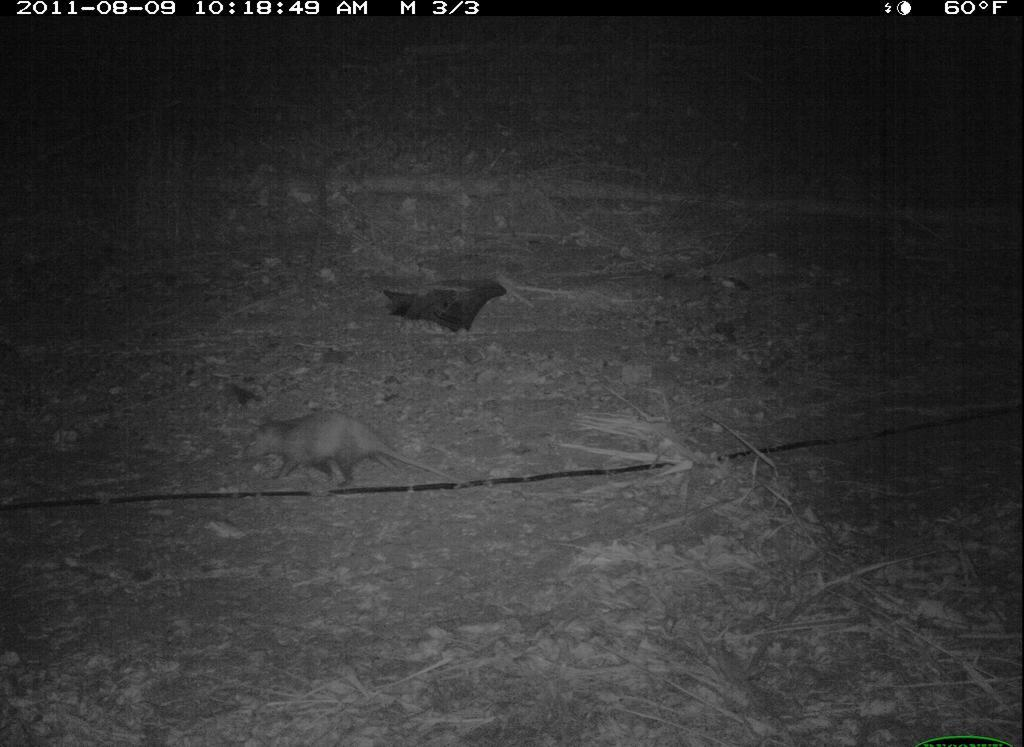opossum: (239, 396, 483, 498)
